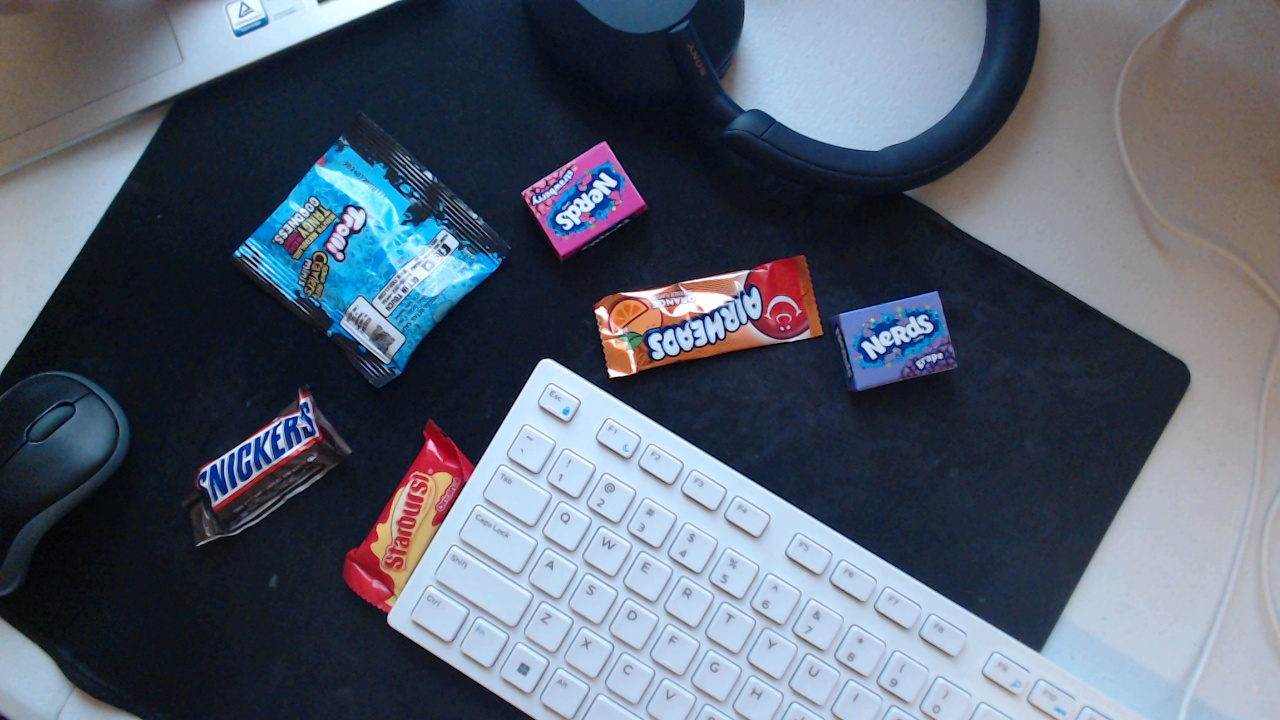nerds: (229, 92, 520, 386), (563, 255, 841, 382), (518, 137, 675, 258), (825, 283, 991, 389)
snickers: (129, 397, 356, 562)
starbust: (327, 409, 488, 619)
